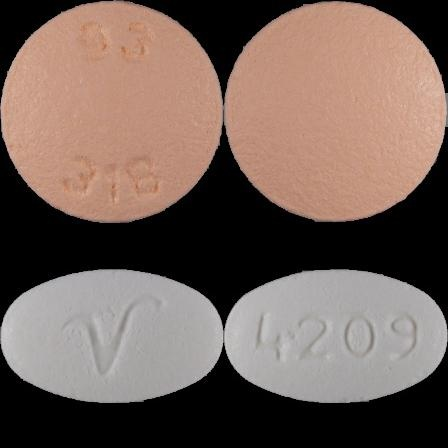35356-971: (0, 0, 224, 224)
